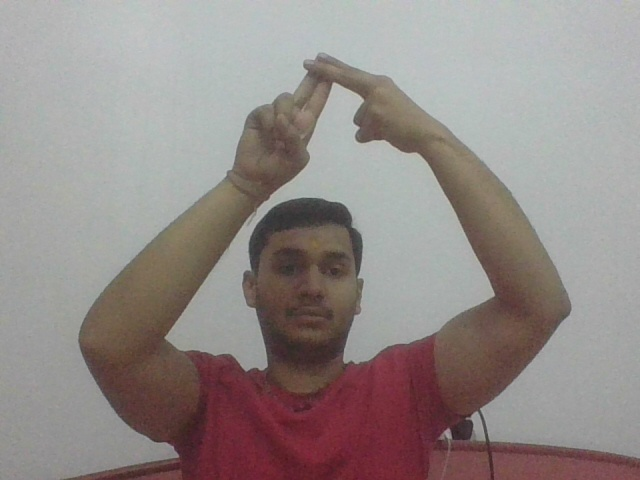F: (237, 48, 438, 176)
